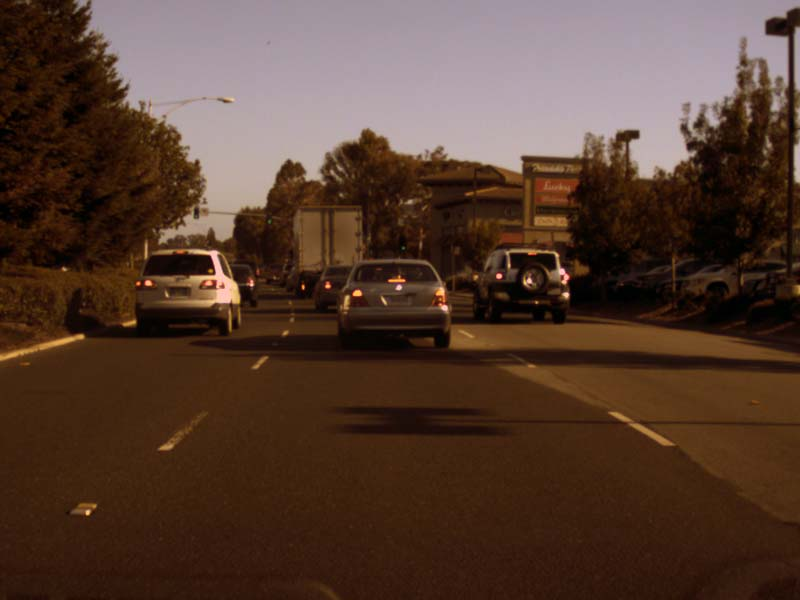Green: (398, 235, 405, 251), (266, 212, 272, 224), (194, 207, 198, 218)
